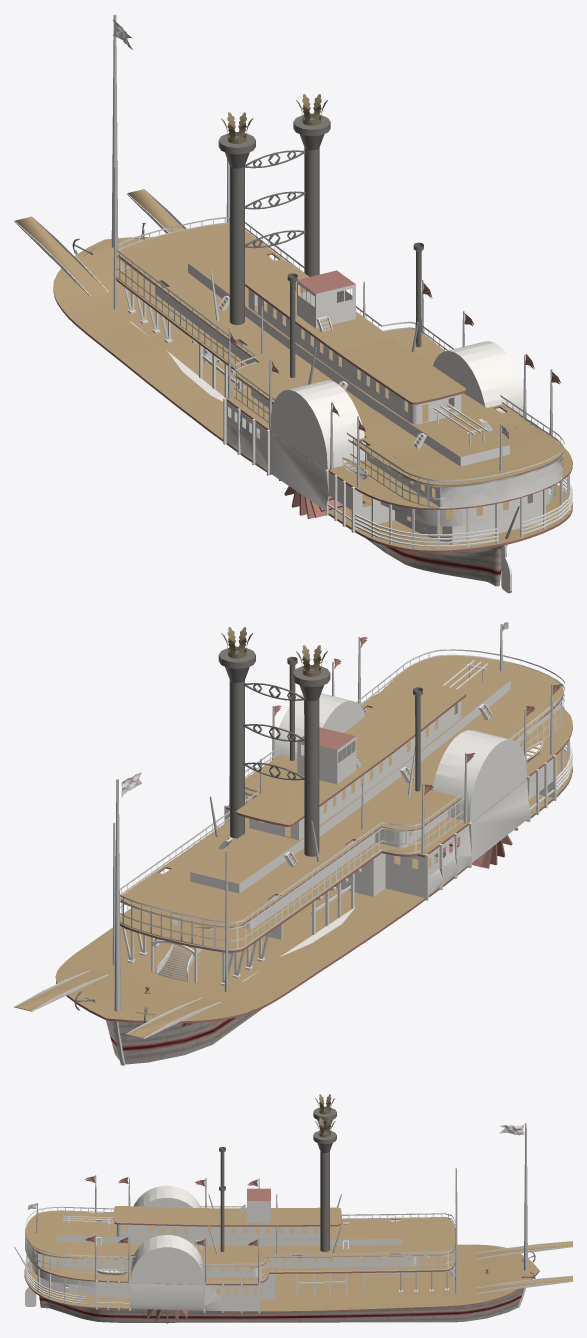
The picture shows the model from 3 angles, top to bottom: view 1: azimuth 30°, elevation 25°; view 2: azimuth 150°, elevation 25°; view 3: azimuth 270°, elevation 25°; orthographic projection. The views are drawn at different scales.
Parts seen in each view (by area): view 1: 轮船08; view 2: 轮船08; view 3: 轮船08.
Boxes of the visible parts, x1=… form: 轮船08: x1=14, y1=14, x2=572, y2=593; 轮船08: x1=14, y1=622, x2=572, y2=1065; 轮船08: x1=14, y1=1094, x2=572, y2=1323.
Bounding box in the file's own units: 14.36 × 21.06 × 53.83.
Materials: 16 (2 with a texture image).
